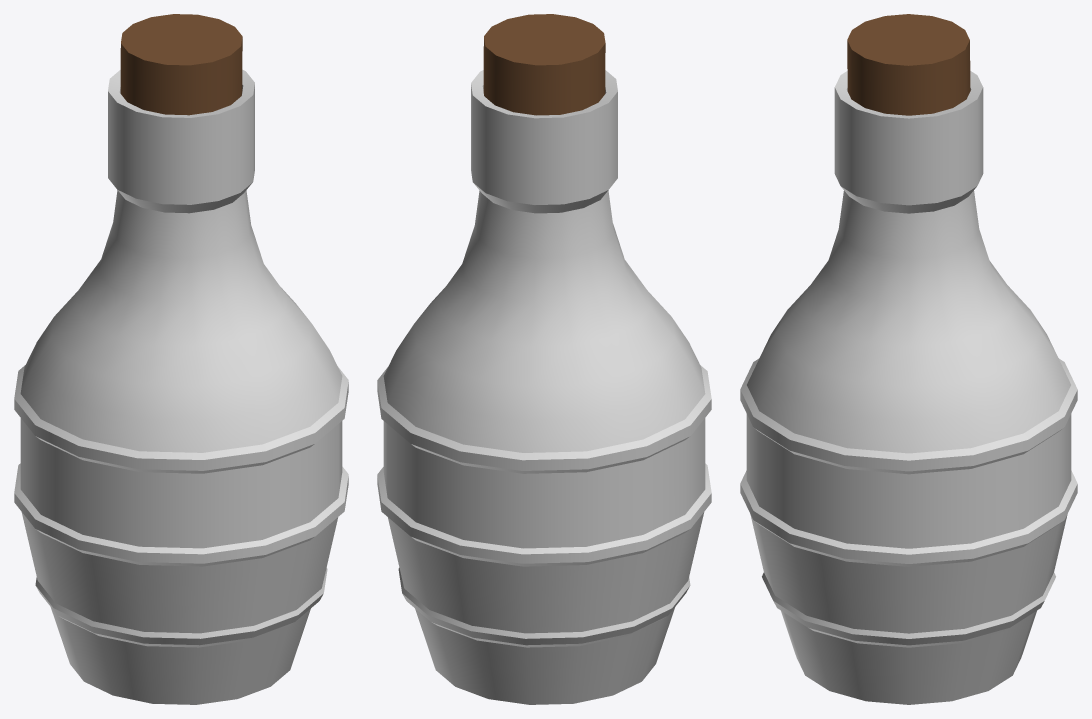
File: flacon_d_huile_after_baking.fbx
The picture shows the model from 3 angles, left to right: view 1: azimuth 30°, elevation 25°; view 2: azimuth 150°, elevation 25°; view 3: azimuth 270°, elevation 25°; orthographic projection.
Parts seen in each view (by area): view 1: Pot_à_huile_after_baking; view 2: Pot_à_huile_after_baking; view 3: Pot_à_huile_after_baking.
Part boxes in pixels (left/top/right/bottom): Pot_à_huile_after_baking: left=14, top=14, right=348, bottom=704; Pot_à_huile_after_baking: left=377, top=14, right=711, bottom=704; Pot_à_huile_after_baking: left=740, top=14, right=1077, bottom=704.
Size of the model in its own units: 923 by 1863 by 923.
